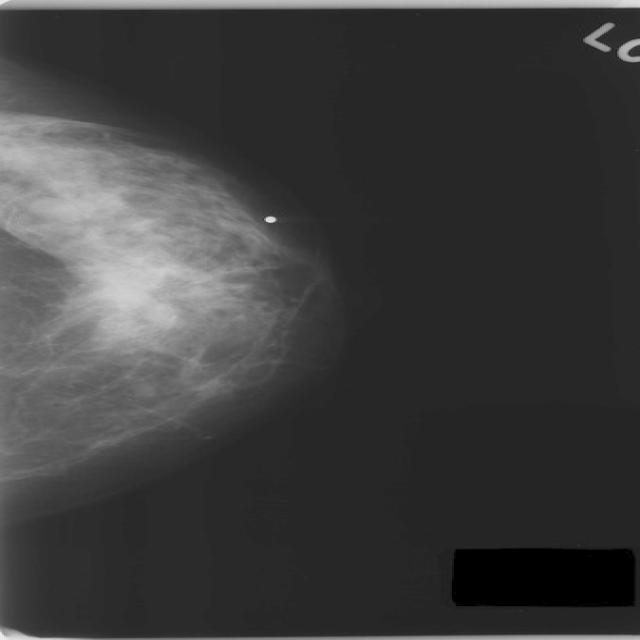tumour: (86, 254, 166, 308)
